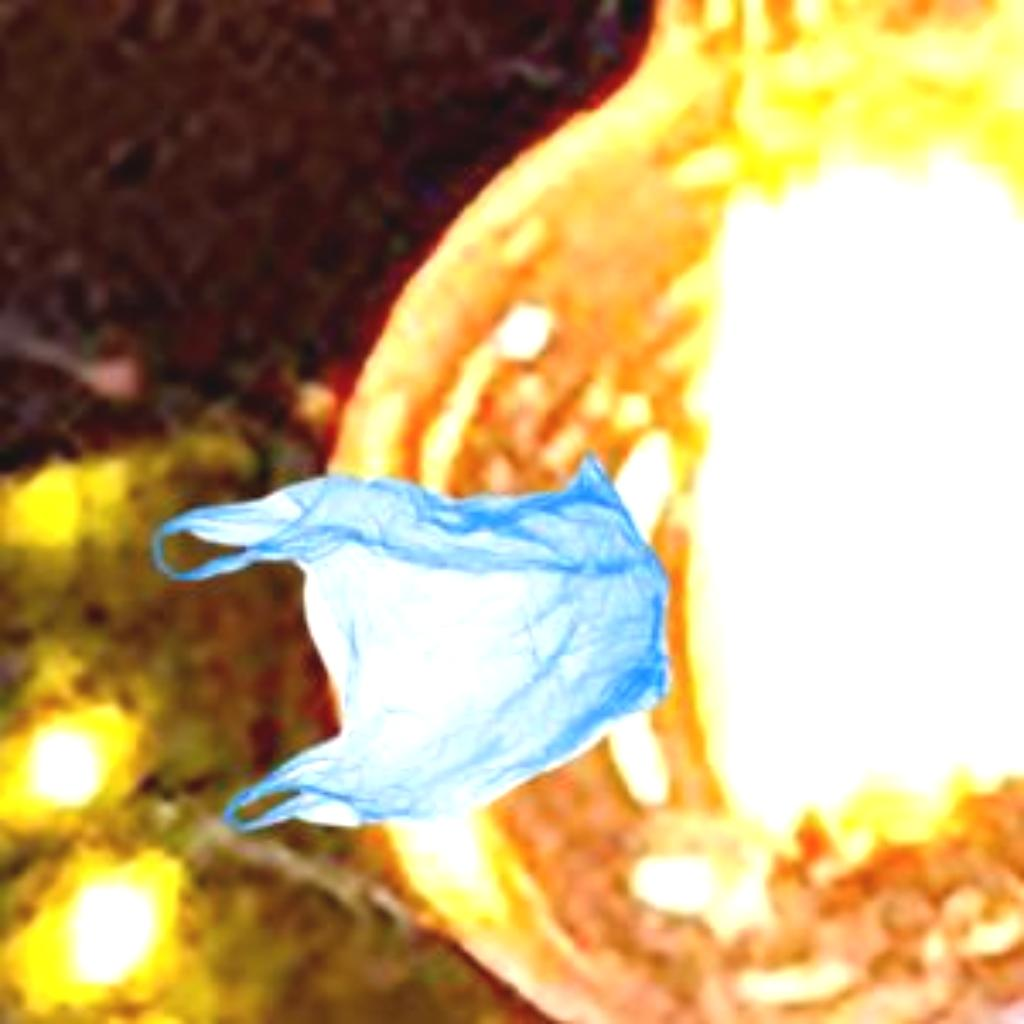garbage: (154, 439, 765, 852)
